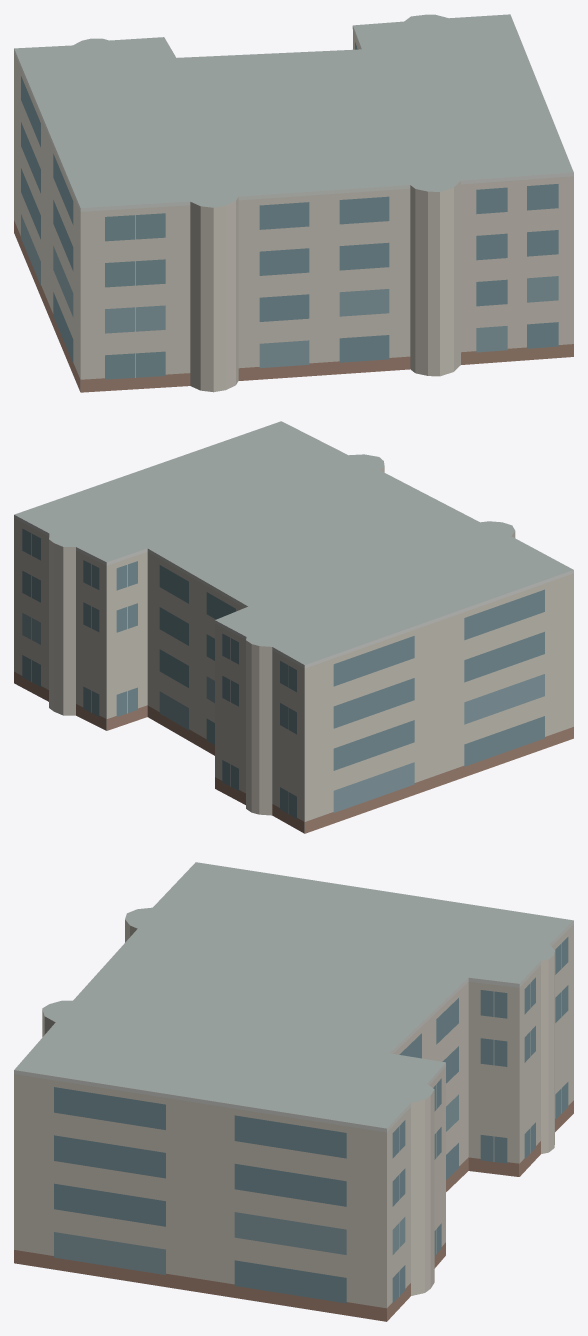
The model's file is survey-upis-32839070.glb.
3 views of the same model, one above another, from view 1: azimuth 30°, elevation 25°; view 2: azimuth 150°, elevation 25°; view 3: azimuth 270°, elevation 25° (orthographic). The views are drawn at different scales.
Visible parts, largest first — view 1: survey-upis-32839070.tmp; view 2: survey-upis-32839070.tmp; view 3: survey-upis-32839070.tmp.
Boxes of the visible parts, x1,y1,x2,y2 form: survey-upis-32839070.tmp: (14, 14, 573, 392); survey-upis-32839070.tmp: (14, 421, 573, 833); survey-upis-32839070.tmp: (14, 862, 573, 1321).
Bounding box in the file's own units: 36.09 × 12.2 × 32.04.
